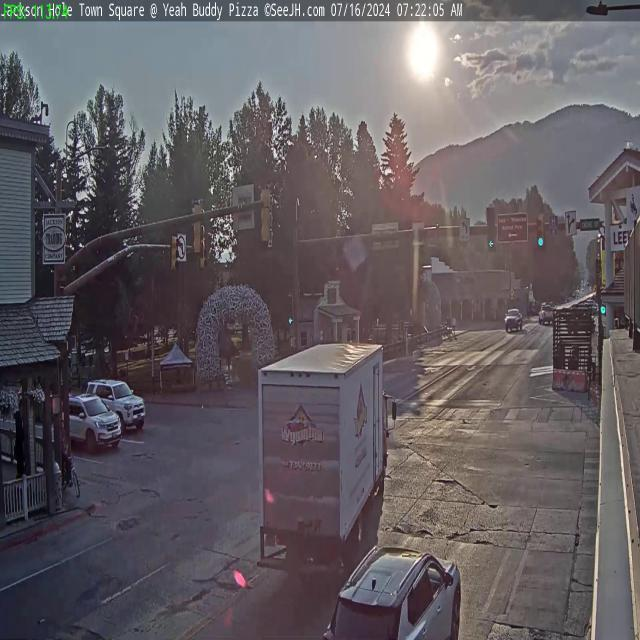bike: (56, 467, 84, 500)
person: (60, 433, 70, 476)
suv: (318, 546, 465, 640), (50, 394, 122, 452), (84, 377, 150, 433)
traffic light: (190, 198, 204, 256), (260, 184, 273, 244), (486, 206, 496, 250), (170, 232, 178, 274), (536, 215, 545, 248)
truck: (249, 339, 390, 556)
